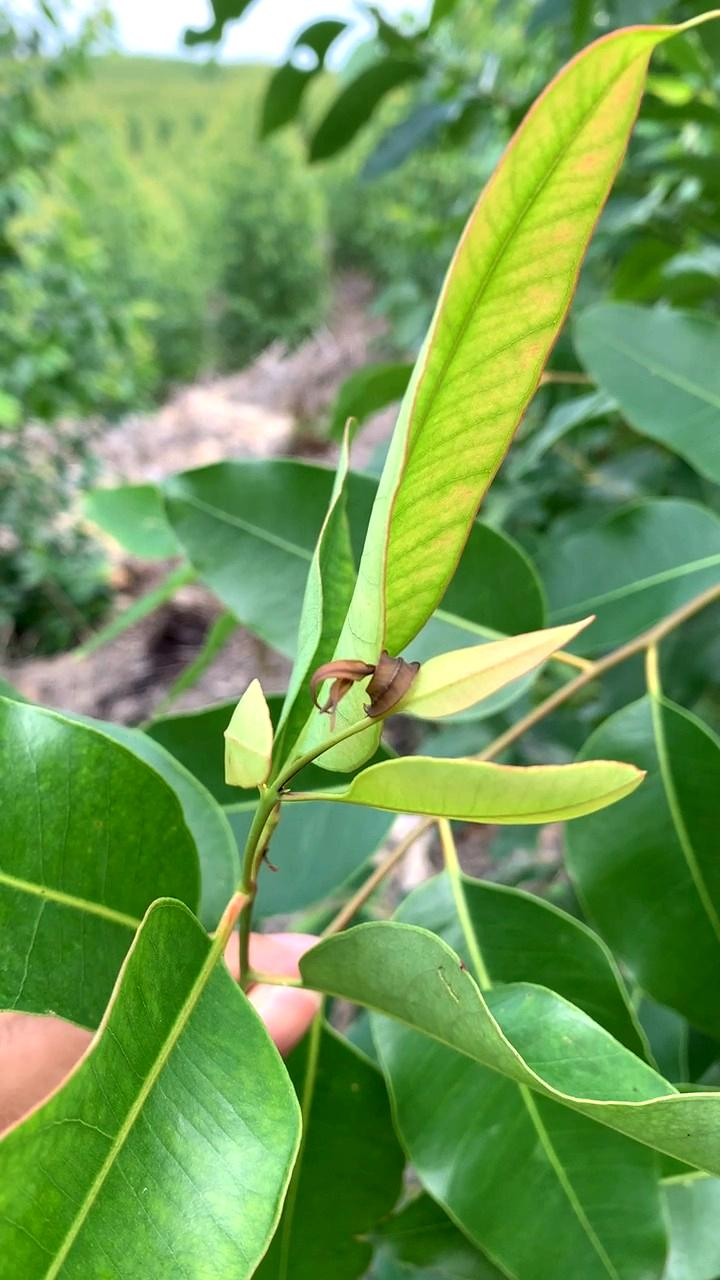Helopeltis-Withered Sprout: (310, 645, 420, 722)
